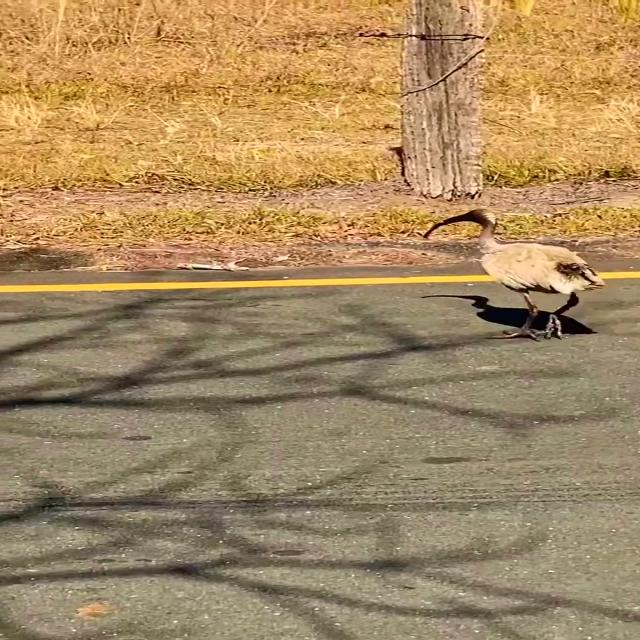Birds-Ibis: (421, 203, 615, 347)
